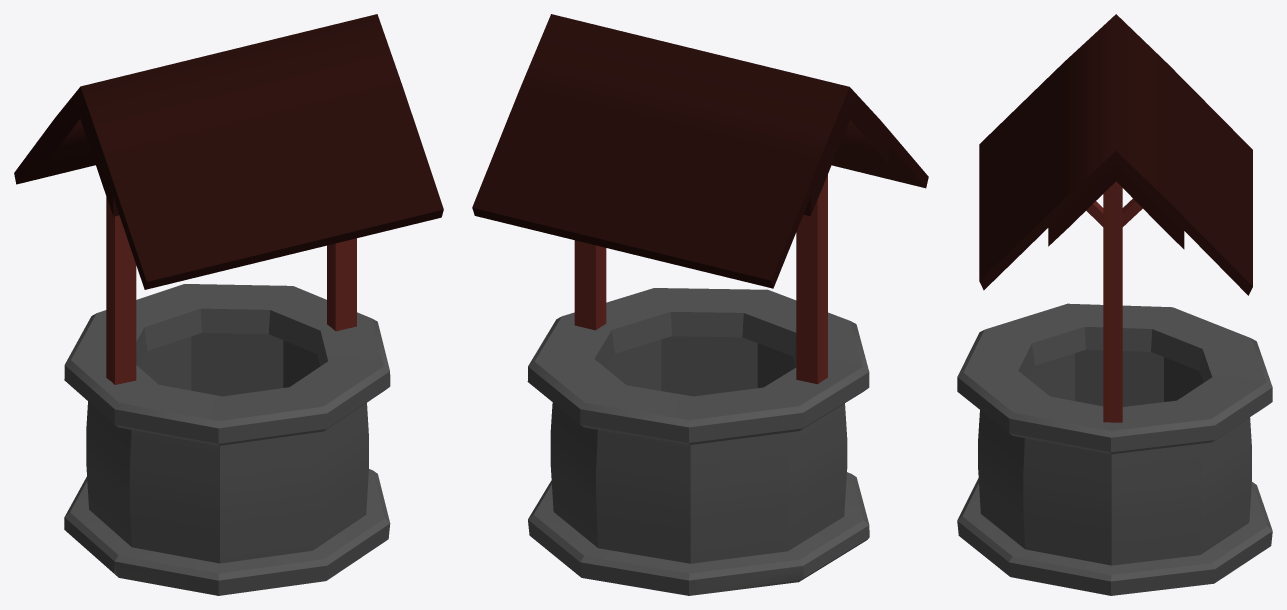
File: Studnia.FBX
3 views of the same model, side by side, from view 1: azimuth 30°, elevation 25°; view 2: azimuth 150°, elevation 25°; view 3: azimuth 270°, elevation 25° (orthographic). The views are drawn at different scales.
Parts seen in each view (by area): view 1: Cylinder001; view 2: Cylinder001; view 3: Cylinder001.
Part boxes in pixels (x1,y1,x2,y2): Cylinder001: [14, 14, 443, 595]; Cylinder001: [472, 14, 928, 595]; Cylinder001: [957, 14, 1272, 595].
Bounding box in the file's own units: 45.97 × 67.31 × 43.04.
